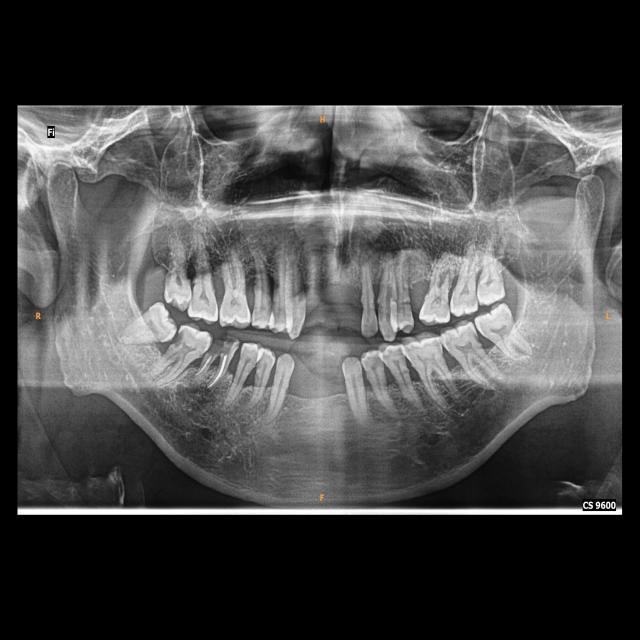dentin-curugu: (208, 336, 233, 356), (171, 332, 186, 347)
kanal-tedavisi: (206, 355, 232, 390), (195, 356, 214, 376)
